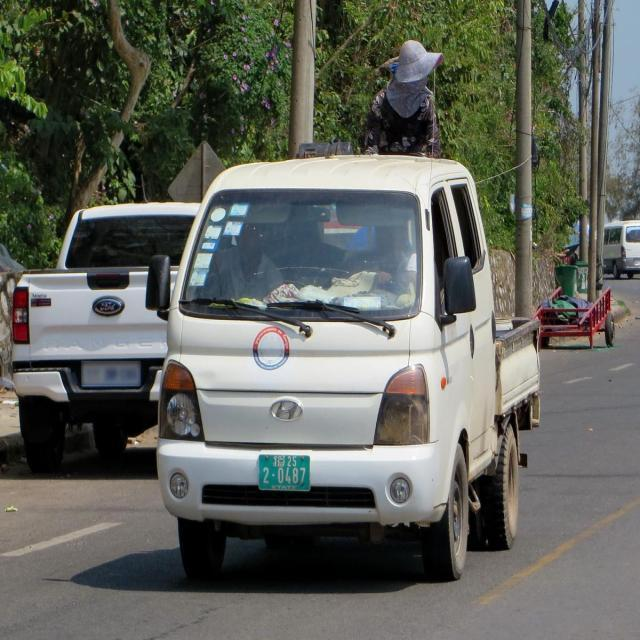State: (273, 455, 286, 468)
